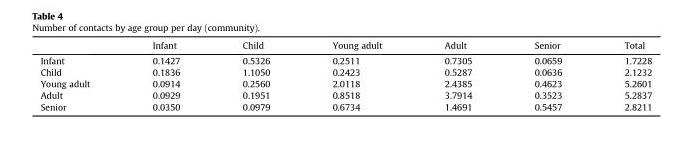table: (39, 39, 651, 111)
table column: (300, 39, 412, 111), (120, 39, 210, 111), (210, 39, 300, 111), (412, 39, 502, 111), (502, 39, 592, 111), (39, 39, 120, 111), (592, 39, 651, 111)
table column header: (39, 39, 651, 52)
table row: (39, 39, 651, 52), (39, 52, 651, 65), (39, 65, 651, 77), (39, 88, 651, 100), (39, 77, 651, 88), (39, 100, 651, 111)
